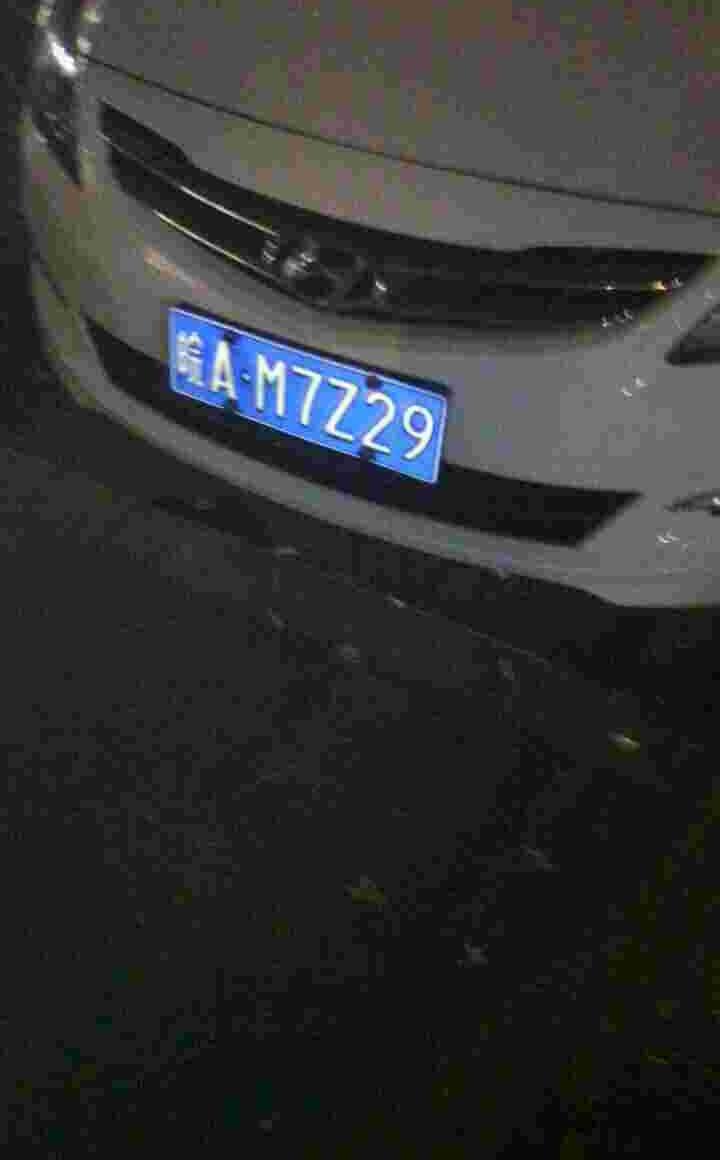car: (162, 304, 431, 471)
